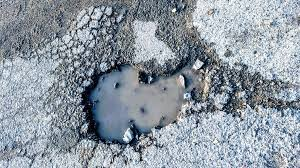potholes: (64, 59, 213, 146)
